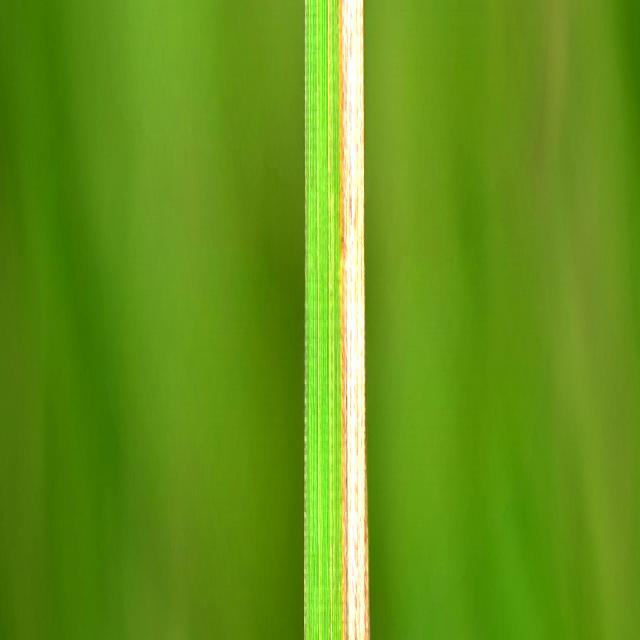BLB: (340, 0, 370, 640)
